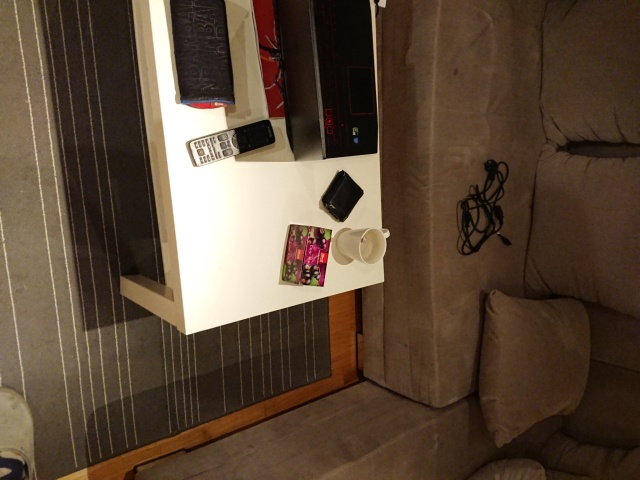Franck Black Currant Tea 60g: (279, 223, 334, 288)
